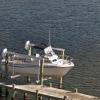Boat: (0, 38, 77, 84)
